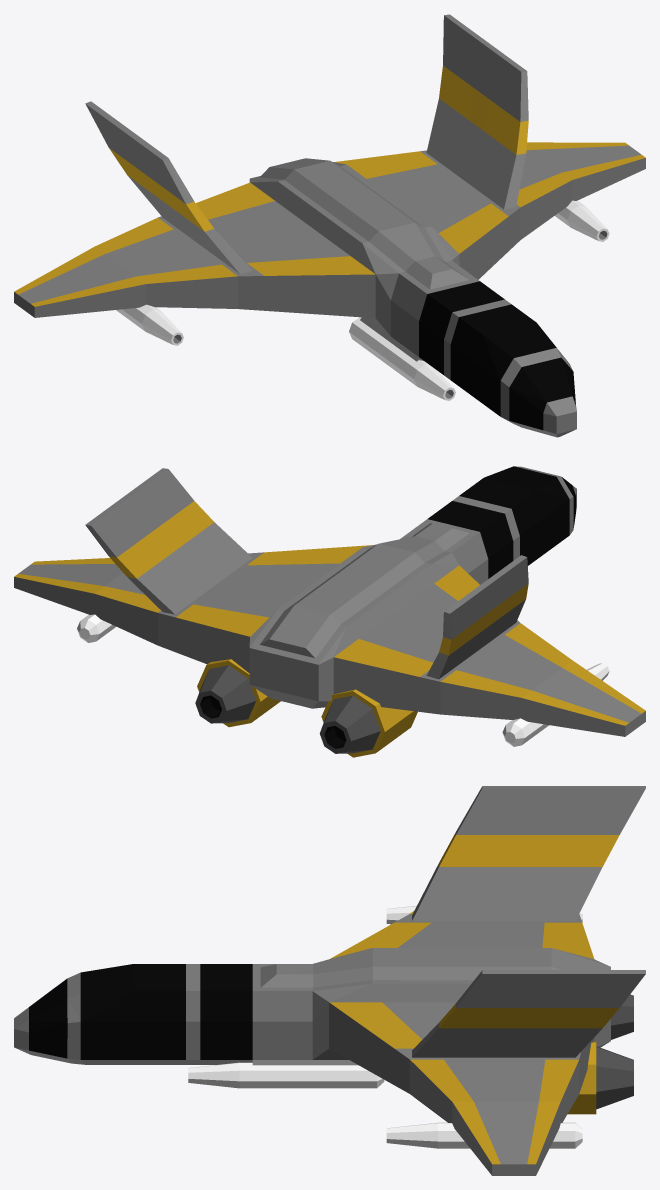
Rendered from Spaceship4_1.fbx.
3 renders of one model, top to bottom at view 1: azimuth 30°, elevation 25°; view 2: azimuth 150°, elevation 25°; view 3: azimuth 270°, elevation 25°, orthographic. The views are drawn at different scales.
Parts seen in each view (by area): view 1: Spaceship4_1; view 2: Spaceship4_1; view 3: Spaceship4_1.
Part boxes in pixels (x1,y1,x2,y2): Spaceship4_1: (14,14,645,437); Spaceship4_1: (14,466,645,757); Spaceship4_1: (14,786,645,1175).
Bounding box in the file's own units: 1061 × 317 × 900.
